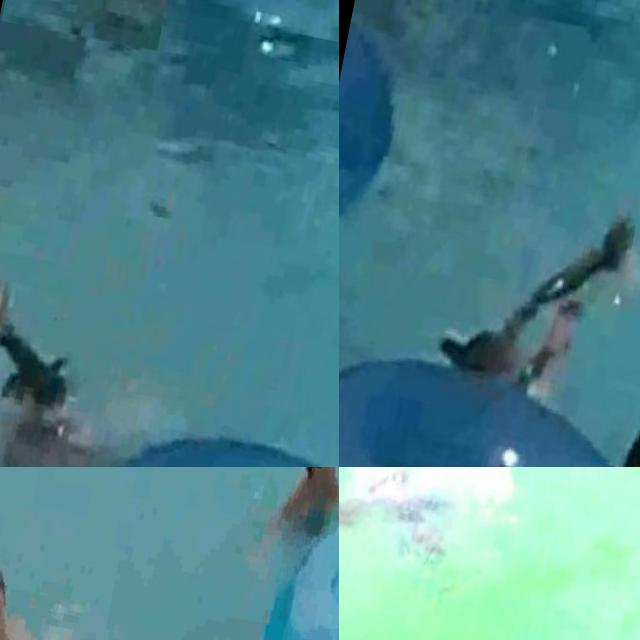drowning: (418, 156, 640, 402), (0, 245, 132, 467), (339, 467, 495, 565)
swimming: (0, 0, 187, 53), (251, 467, 339, 564), (539, 394, 640, 467)
